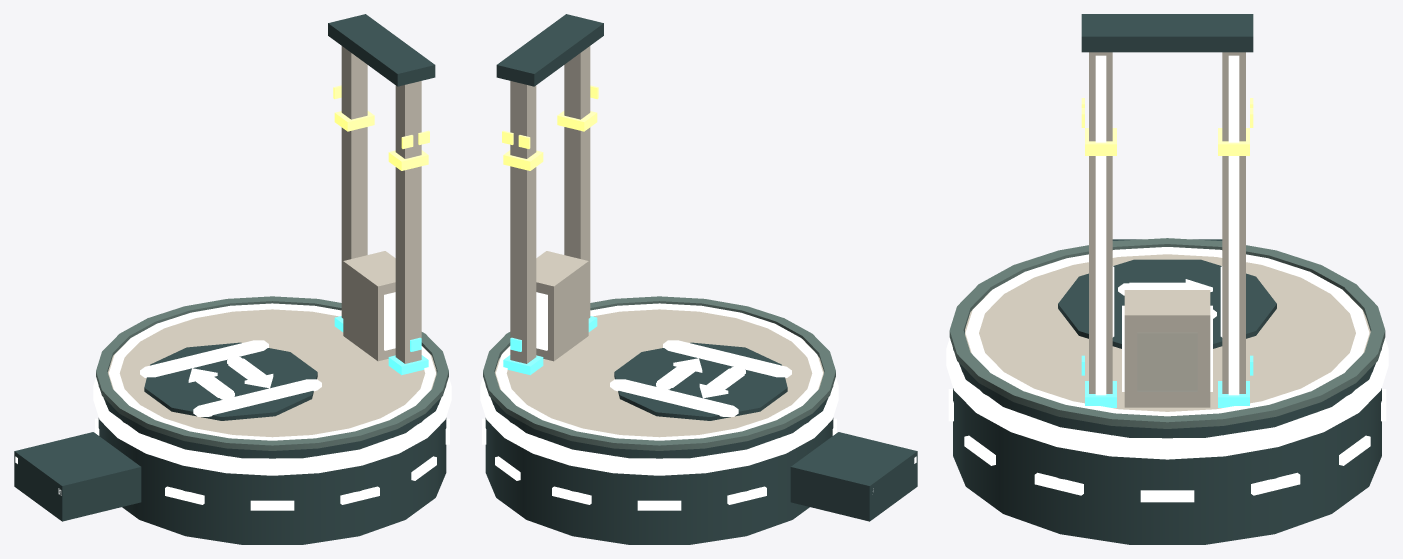
Rendered from Relay_Button_Lift_v3_lab.glb.
3 renders of one model, left to right at view 1: azimuth 30°, elevation 25°; view 2: azimuth 150°, elevation 25°; view 3: azimuth 270°, elevation 25°, orthographic. The views are drawn at different scales.
Visible parts, largest first — view 1: Relay_Button_Lift_v3, Glyph, Strut, Car; view 2: Relay_Button_Lift_v3, Glyph, Strut, Car; view 3: Relay_Button_Lift_v3, Car, Glyph.
Part boxes in pixels (x1=…): Relay_Button_Lift_v3: x1=93, y1=14, x2=451, y2=544; Glyph: x1=140, y1=340, x2=321, y2=420; Strut: x1=14, y1=432, x2=141, y2=521; Car: x1=343, y1=251, x2=395, y2=361; Relay_Button_Lift_v3: x1=480, y1=14, x2=838, y2=544; Glyph: x1=610, y1=340, x2=791, y2=420; Strut: x1=790, y1=432, x2=917, y2=521; Car: x1=536, y1=251, x2=588, y2=361; Relay_Button_Lift_v3: x1=946, y1=14, x2=1388, y2=544; Car: x1=1122, y1=290, x2=1212, y2=407; Glyph: x1=1058, y1=259, x2=1276, y2=348.
Size of the model in its own units: 5.17 by 5.8 by 4.12.
